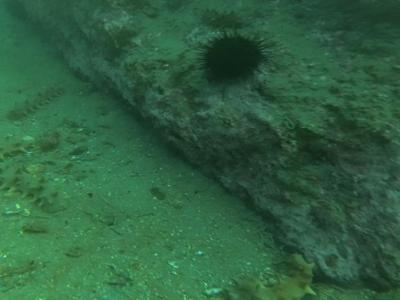holothurian: (219, 252, 319, 297), (11, 167, 69, 211), (6, 87, 64, 123), (2, 137, 31, 161)
urchin: (201, 25, 271, 89)
